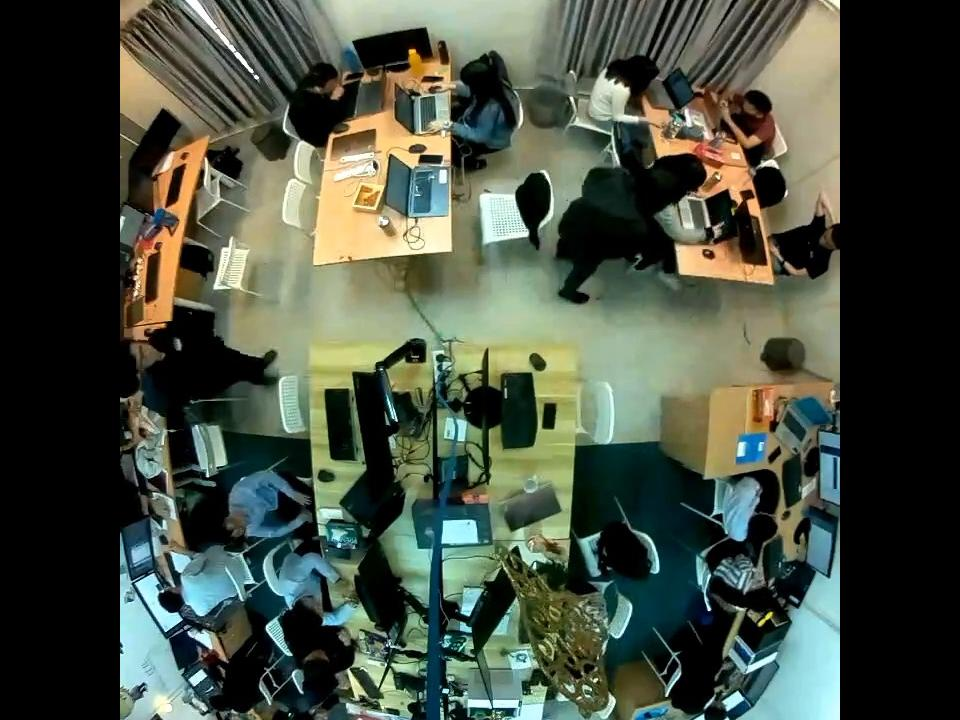name-tag: (172, 337, 182, 351)
